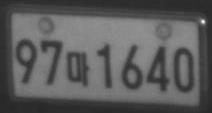0: (173, 47, 195, 92)
1: (94, 43, 115, 88)
4: (145, 45, 171, 92)
6: (120, 43, 144, 90)
7: (40, 38, 64, 85)
9: (14, 38, 38, 84)
마: (66, 51, 90, 87)
